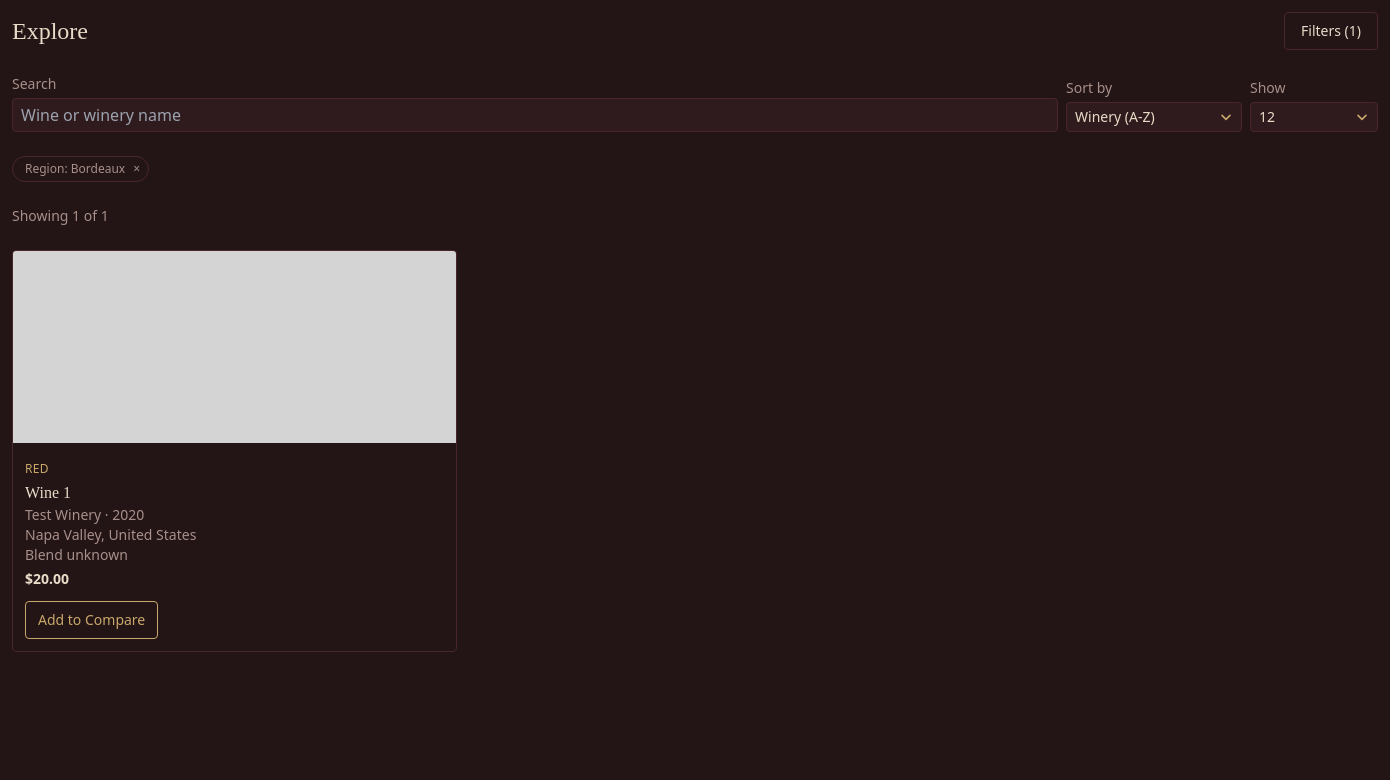
Test: ExplorePage scroll position › filters by a region from the URL and shows a removable region chip
The width and height of the screenshot is (1390, 780).
Check: the link "Wine 1" is shown, box [25,484,71,501]
Check: the text "Region: Bordeaux" is shown, box [25,160,125,177]
Click the button named "remove region filter". click: (137, 169)
box: [129,161,144,177]
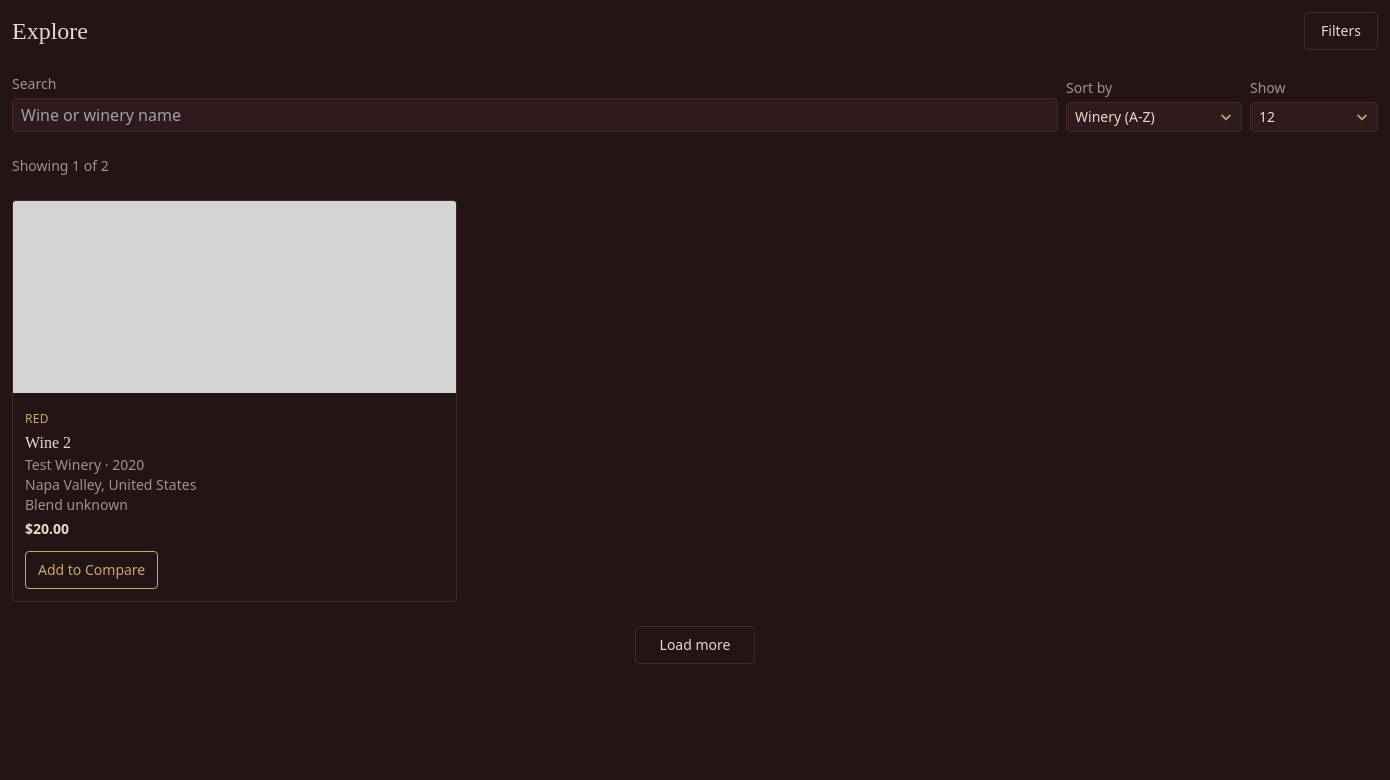
Check: the link "Wine 2" is shown, box [25,434,71,451]
Check: the text "Region: Bordeaux" is gone
